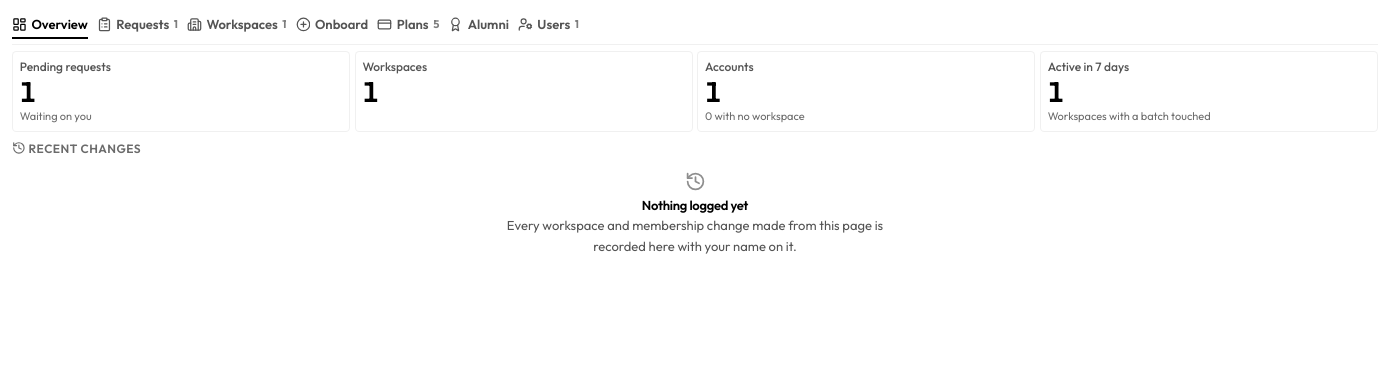
Test: FounderConsole › "Create workspace now" prefills the Onboard form from the request
Click the tab "Requests 1".
click(137, 26)  # box top-left (97, 12), bottom-right (178, 39)
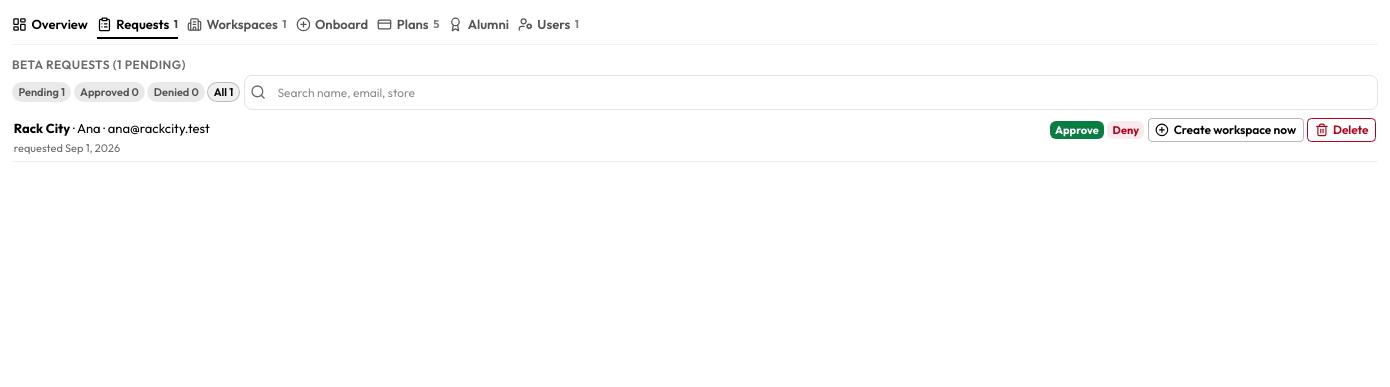
Click the button "Create workspace now".
click(1226, 130)  # box top-left (1148, 118), bottom-right (1304, 142)
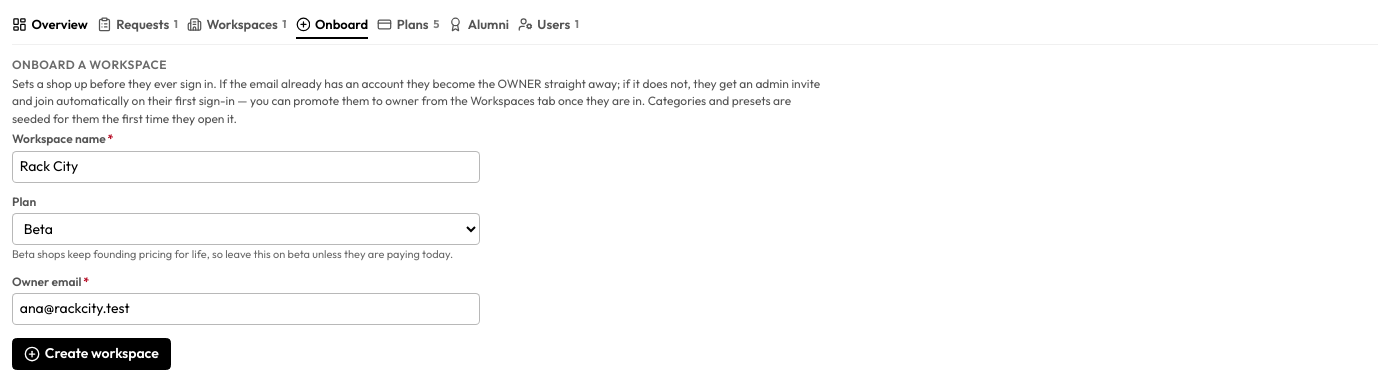
Check: the field labelled "Workspace name*" holds "Rack City", box top-left (12, 150), bottom-right (480, 183)
Check: the field labelled "Owner email*" holds "ana@rackcity.test", box top-left (12, 293), bottom-right (480, 325)
Check: the dropdown labelled "Plan" shows "Beta", box top-left (12, 213), bottom-right (480, 245)
